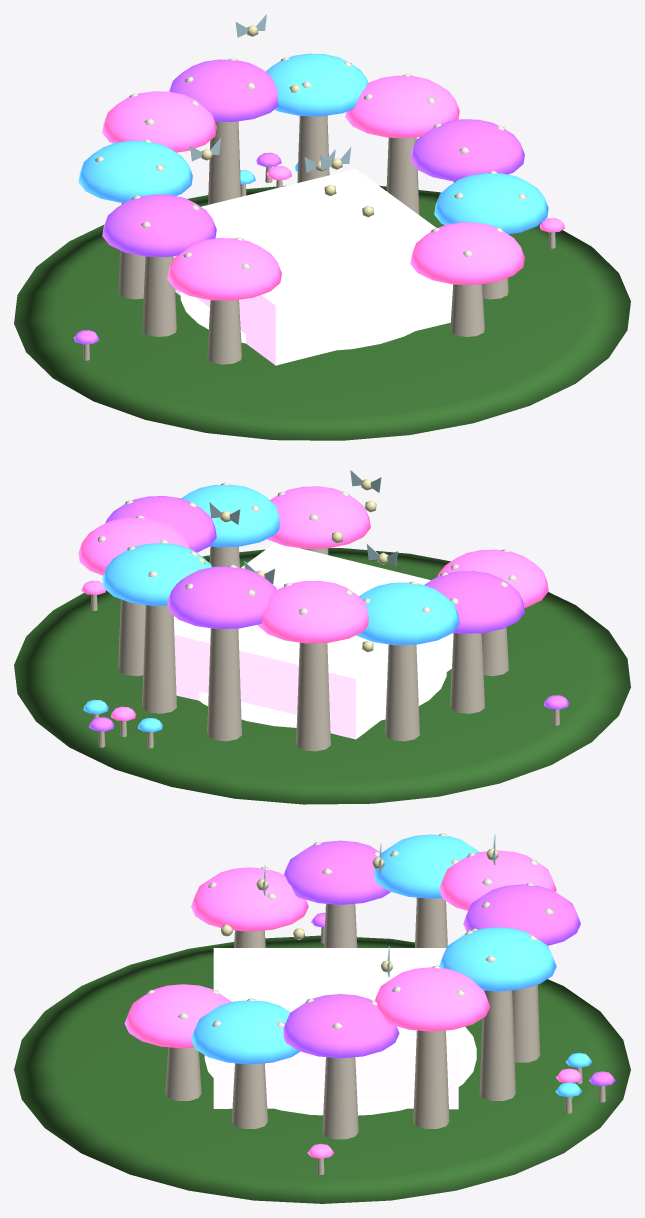
File: FairyRingFurnace_Roblox.fbx
The picture shows the model from 3 angles, top to bottom: view 1: azimuth 30°, elevation 25°; view 2: azimuth 150°, elevation 25°; view 3: azimuth 270°, elevation 25°; orthographic projection. The views are drawn at different scales.
Parts seen in each view (by area): view 1: Moss, BurnZone, CapPink, CapPurple, CapBlue, MushroomStem, FairyPool, CapDots, FairyWing, FairyLight; view 2: Moss, MushroomStem, BurnZone, CapPink, CapBlue, CapPurple, FairyPool, CapDots, FairyWing, FairyLight; view 3: Moss, CapPink, MushroomStem, BurnZone, CapPurple, CapBlue, FairyPool, CapDots, FairyLight.
Boxes of the visible parts, x1,y1,x2,y2 form: Moss: [14, 185, 630, 440]; BurnZone: [173, 169, 453, 365]; CapPink: [102, 75, 564, 300]; CapPurple: [73, 59, 524, 344]; CapBlue: [78, 53, 548, 234]; MushroomStem: [83, 115, 555, 364]; FairyPool: [180, 292, 415, 350]; CapDots: [95, 57, 526, 269]; FairyWing: [190, 14, 351, 172]; FairyLight: [201, 25, 373, 217]; Moss: [14, 548, 630, 804]; MushroomStem: [90, 546, 559, 751]; BurnZone: [173, 542, 453, 739]; CapPink: [78, 486, 548, 720]; CapBlue: [83, 484, 459, 732]; CapPurple: [89, 496, 569, 731]; FairyPool: [199, 663, 446, 727]; CapDots: [98, 482, 517, 614]; FairyWing: [209, 469, 397, 583]; FairyLight: [197, 479, 388, 652]; Moss: [14, 935, 630, 1203]; CapPink: [124, 850, 582, 1158]; MushroomStem: [165, 897, 605, 1174]; BurnZone: [213, 948, 458, 1109]; CapPurple: [283, 840, 615, 1086]; CapBlue: [191, 834, 592, 1097]; FairyPool: [204, 1026, 476, 1115]; CapDots: [146, 833, 553, 1029]; FairyLight: [221, 848, 498, 972].
Bounding box in the file's own units: 1400 × 569 × 1360.
